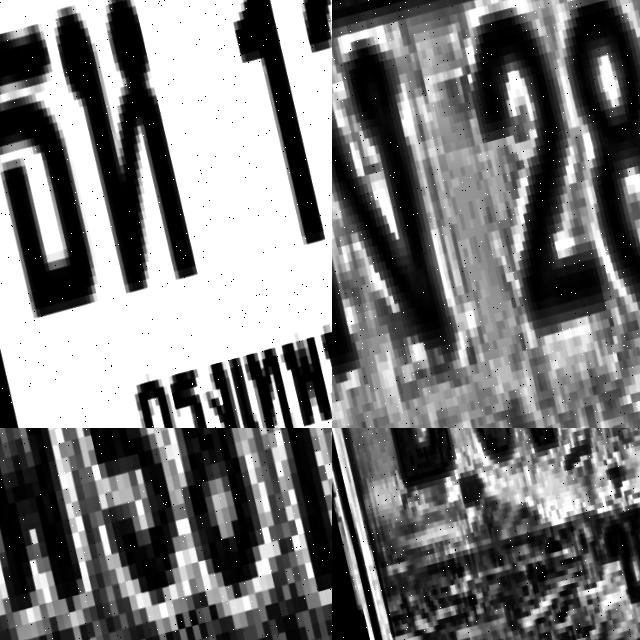license-plate: (0, 0, 332, 428), (332, 0, 640, 428), (0, 428, 332, 640), (332, 428, 640, 640)
